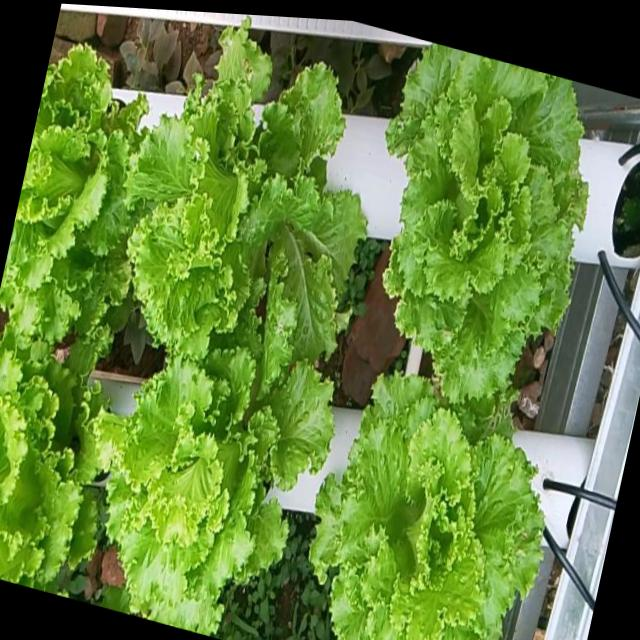Mature: (121, 18, 362, 355), (377, 42, 582, 414), (95, 318, 328, 632), (301, 371, 535, 640), (0, 30, 142, 329), (0, 313, 93, 588)
